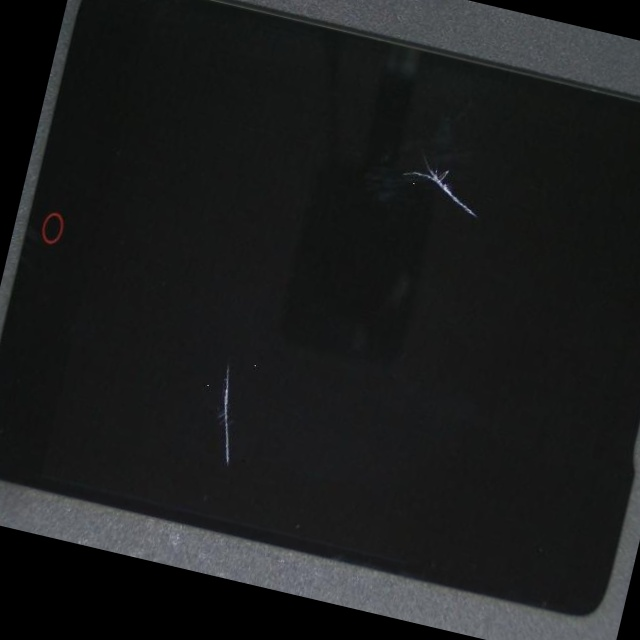scratch: (38, 83, 384, 591), (283, 50, 640, 292)
